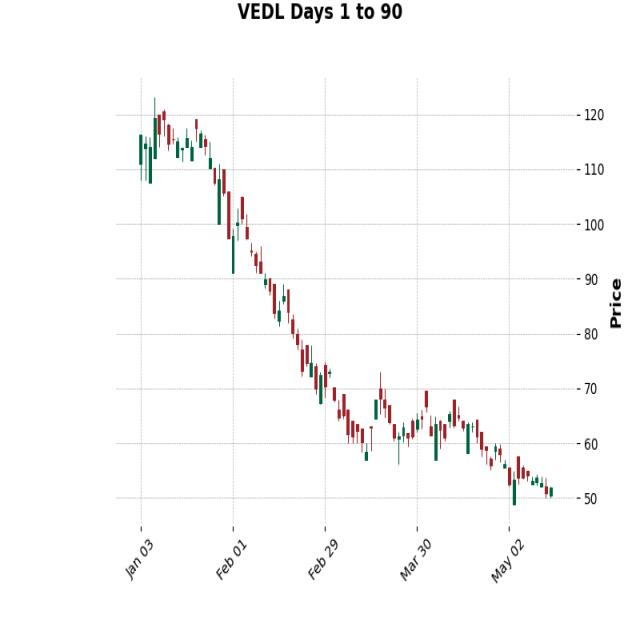Descending Triangle: (418, 362, 560, 498)
